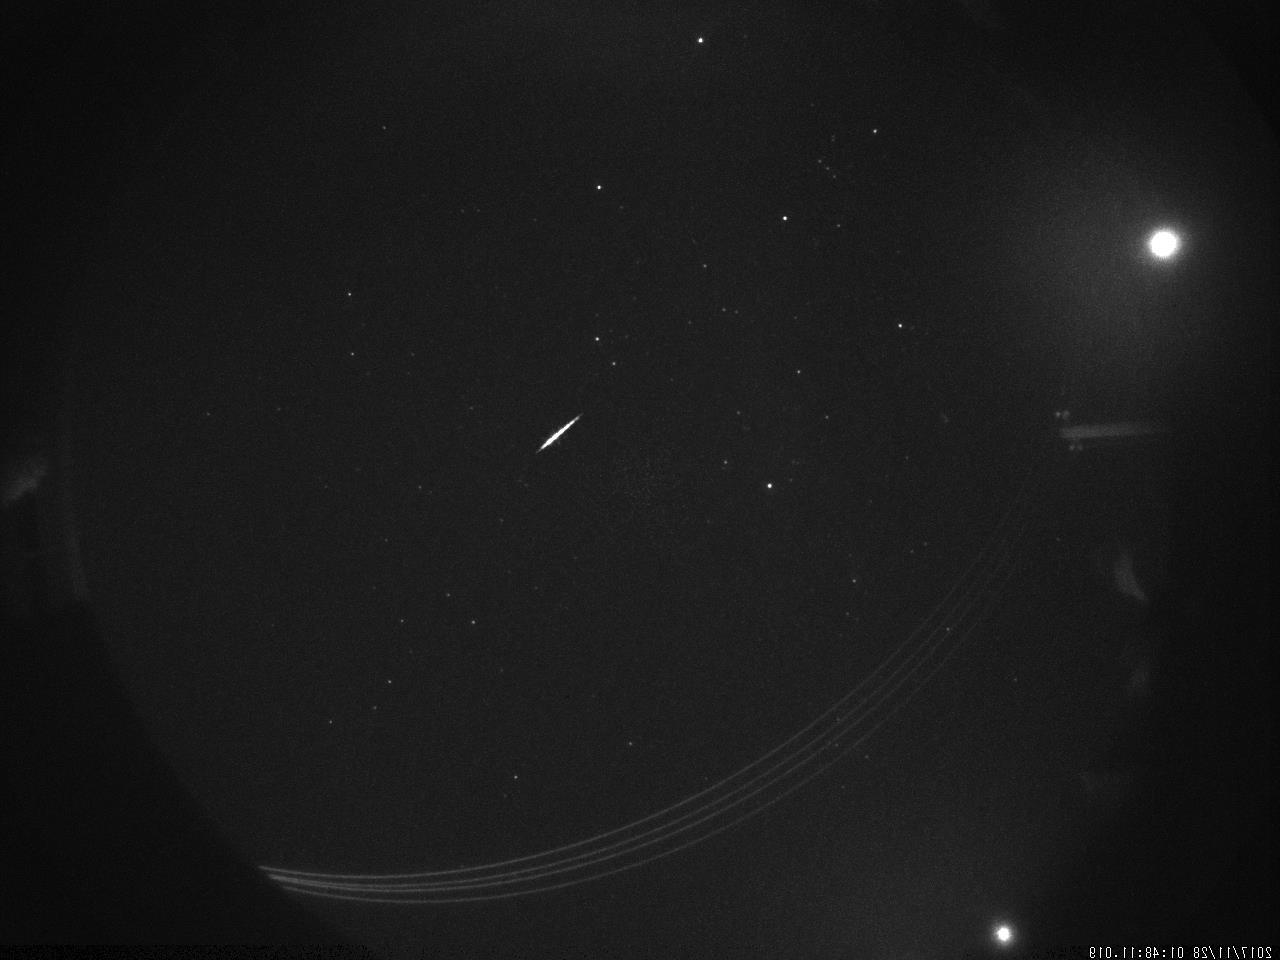meteor: (521, 404, 587, 464)
